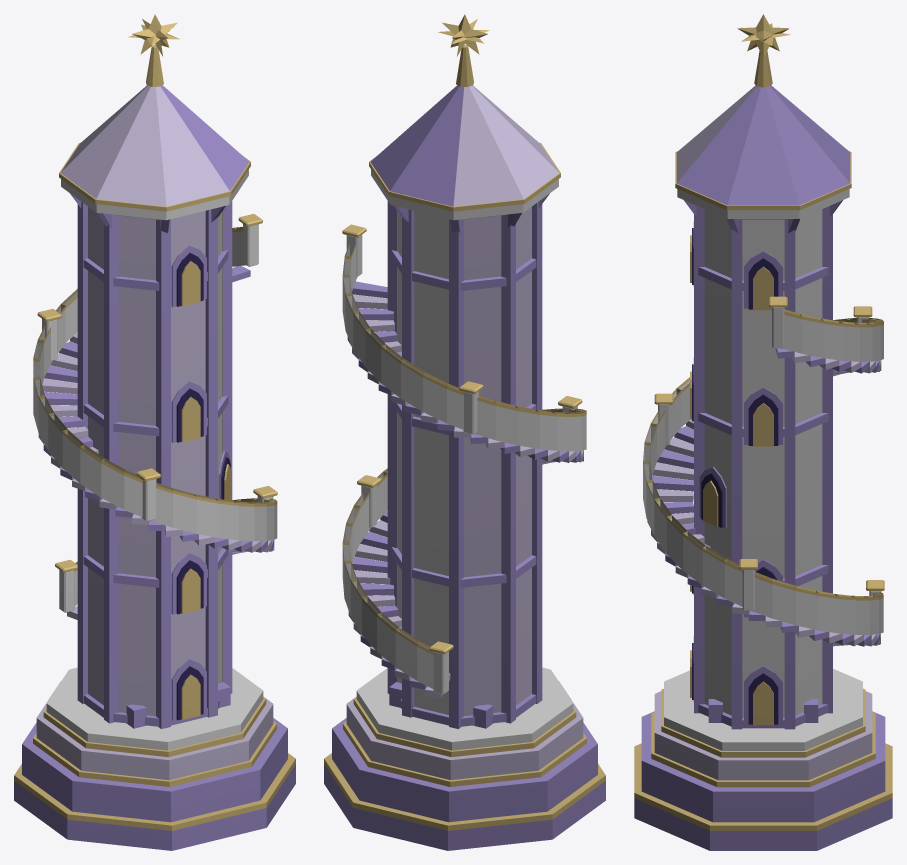
Rendered from spiral-tower.glb.
The picture shows the model from 3 angles, left to right: view 1: azimuth 30°, elevation 25°; view 2: azimuth 150°, elevation 25°; view 3: azimuth 270°, elevation 25°; orthographic projection.
Parts seen in each view (by area): view 1: tower0_mesh, spin0_mesh; view 2: tower0_mesh, spin0_mesh; view 3: tower0_mesh, spin0_mesh.
Boxes of the visible parts, x1,y1,x2,y2 form: tower0_mesh: (14,45,295,850); spin0_mesh: (127,14,179,56); tower0_mesh: (324,45,605,850); spin0_mesh: (438,14,489,56); tower0_mesh: (634,51,892,850); spin0_mesh: (737,14,790,58).
Bounding box in the file's own units: 4.3 × 14 × 4.2.
